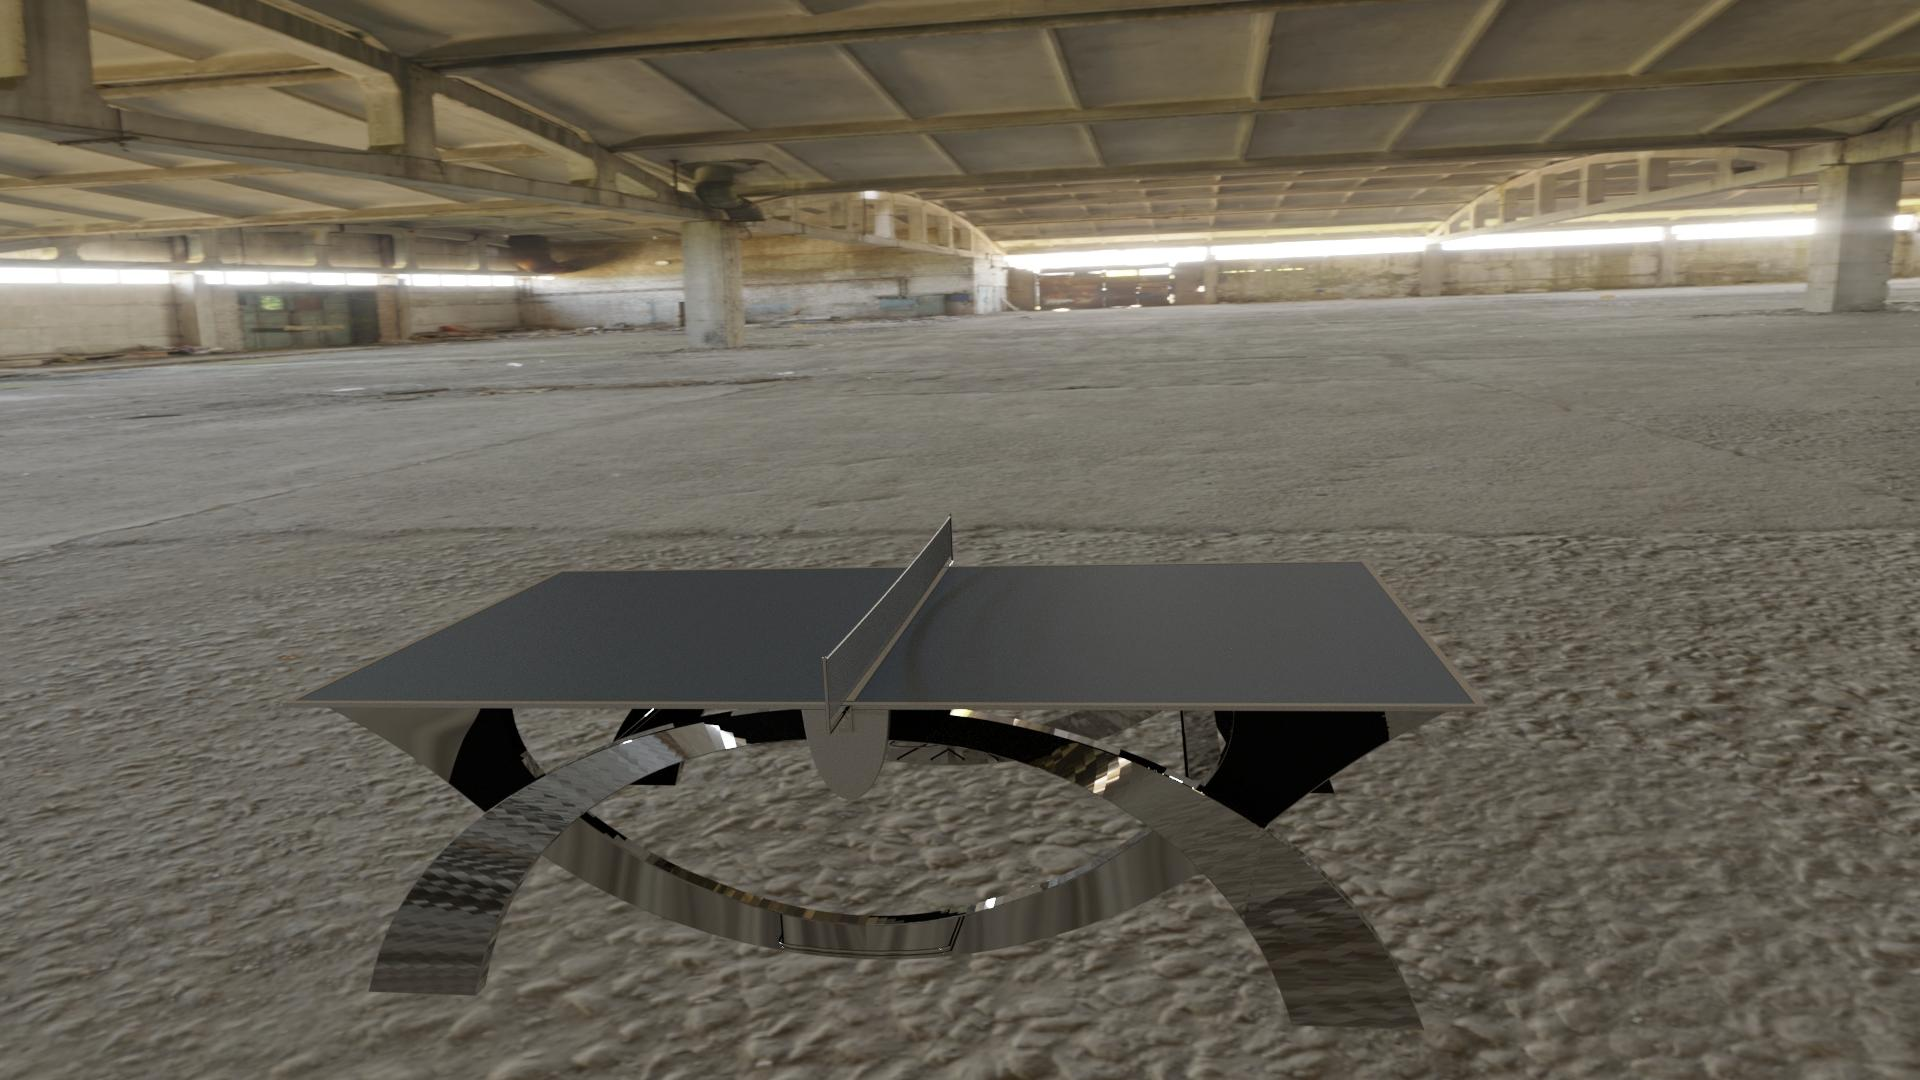table: (294, 562, 1476, 704)
